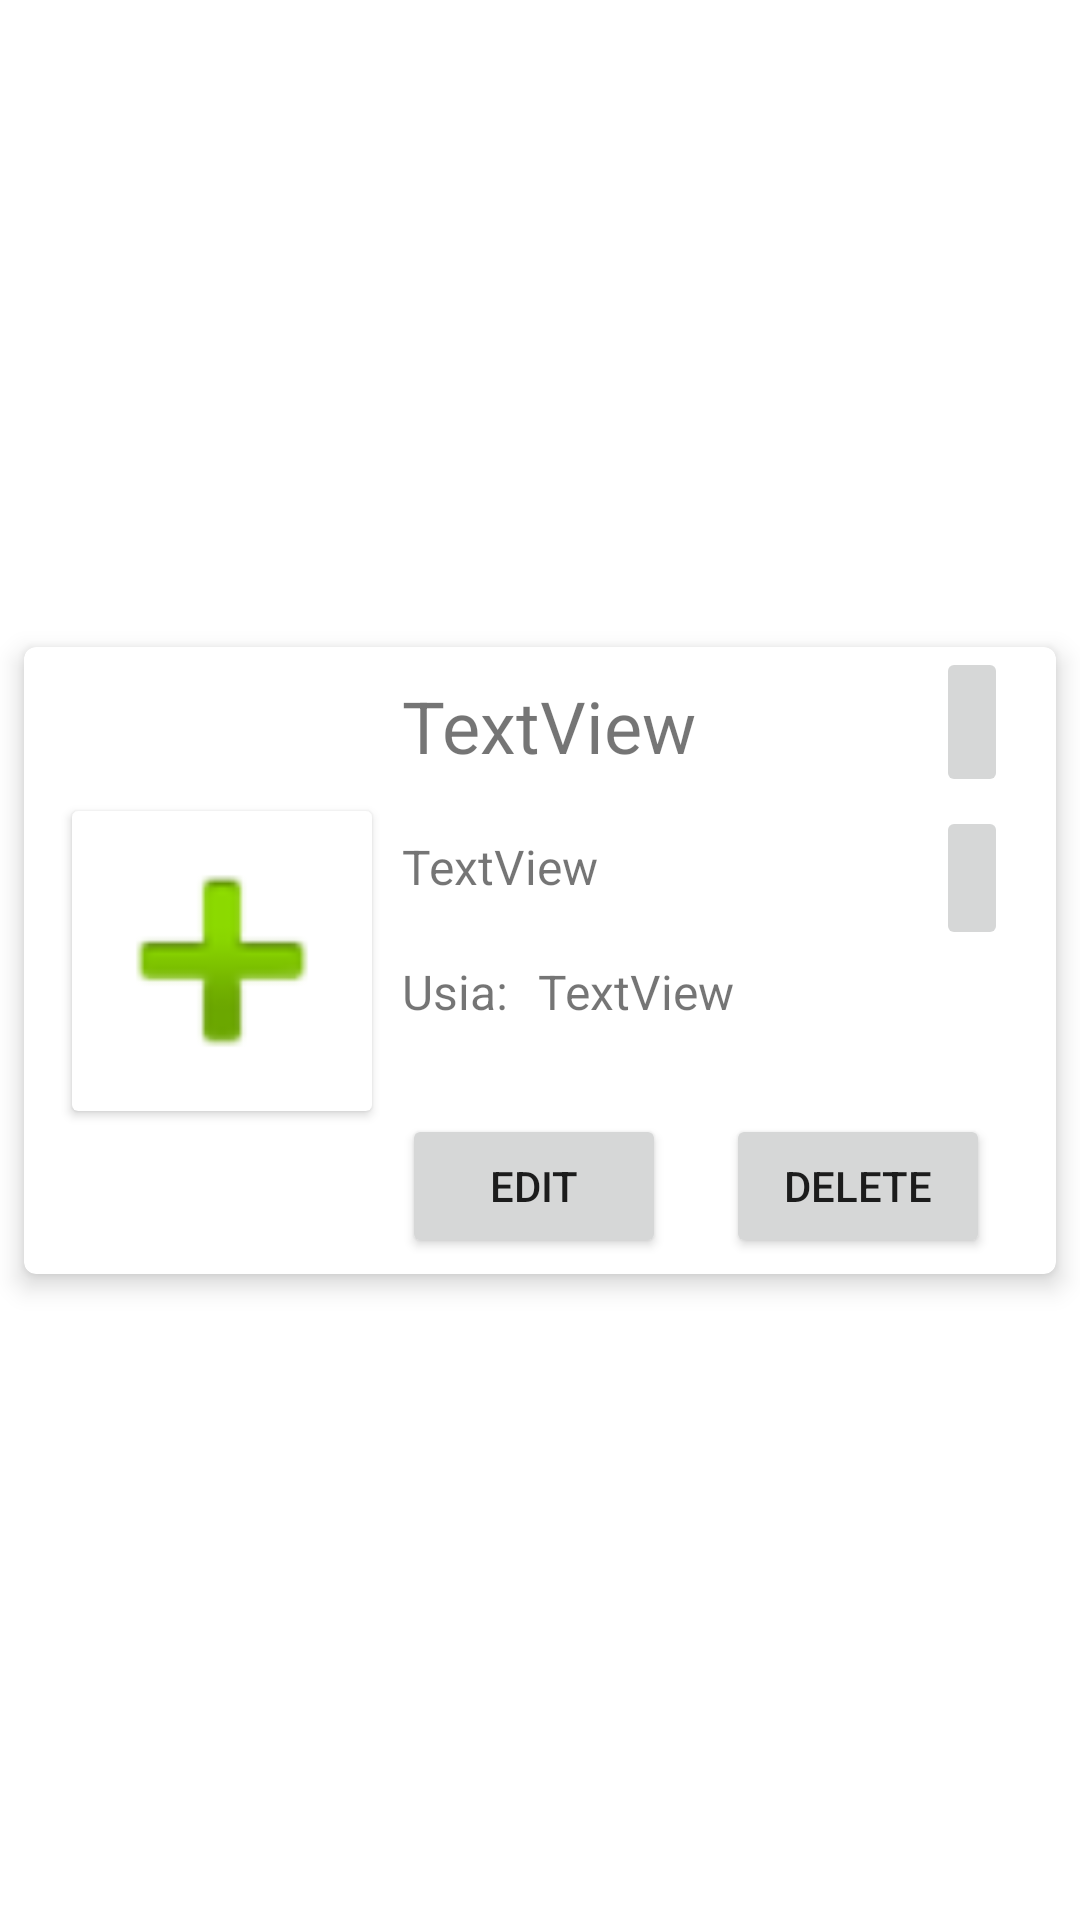

Where to tap for icons on this 1080w x 1920h app screen, as (x,y):
add: (221,993)
